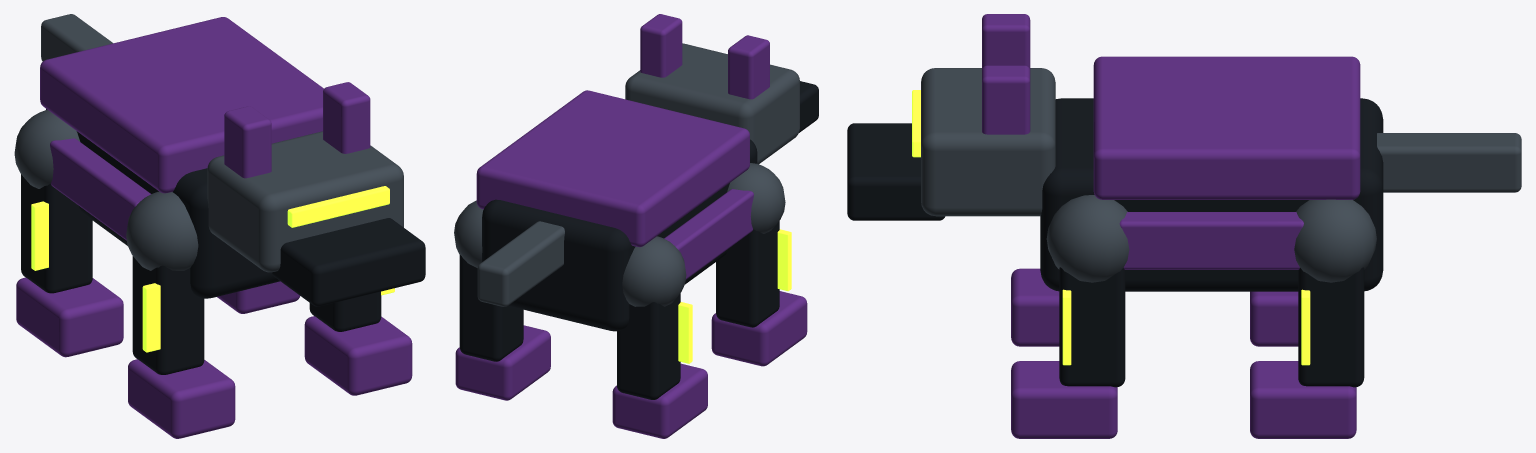
Rendered from hound_l02.glb.
3 views of the same model, side by side, from view 1: azimuth 30°, elevation 25°; view 2: azimuth 150°, elevation 25°; view 3: azimuth 270°, elevation 25° (orthographic). The views are drawn at different scales.
Parts seen in each view (by area): view 1: dorsal_plating, armoured_paw (×4), hound_head, servo_leg (×3), muzzle, hip_joint (×2), ear_array (×2), hound_core, flank_plate, servo_light (×2), tail, tracking_optics; view 2: dorsal_plating, servo_leg (×3), armoured_paw (×3), hound_core, hound_head, hip_joint (×3), tail, ear_array (×2), flank_plate, servo_light (×2), muzzle; view 3: dorsal_plating, armoured_paw (×4), hound_head, hound_core, servo_leg (×2), hip_joint (×2), flank_plate, tail, muzzle, ear_array (×2), servo_light (×2).
Boxes of the visible parts, x1=… form: dorsal_plating: x1=40, y1=17, x2=323, y2=193; armoured_paw (×4): x1=16, y1=277, x2=412, y2=438; hound_head: x1=207, y1=131, x2=403, y2=272; servo_leg (×3): x1=21, y1=174, x2=381, y2=374; muzzle: x1=271, y1=218, x2=425, y2=306; hip_joint (×2): x1=14, y1=110, x2=198, y2=270; ear_array (×2): x1=224, y1=82, x2=370, y2=178; hound_core: x1=46, y1=109, x2=279, y2=298; flank_plate: x1=50, y1=138, x2=150, y2=240; servo_light (×2): x1=31, y1=201, x2=160, y2=352; tail: x1=41, y1=14, x2=112, y2=61; tracking_optics: x1=287, y1=186, x2=389, y2=227; dorsal_plating: x1=476, y1=90, x2=749, y2=247; servo_leg (×3): x1=459, y1=221, x2=779, y2=399; armoured_paw (×3): x1=455, y1=291, x2=807, y2=438; hound_core: x1=482, y1=139, x2=757, y2=331; hound_head: x1=625, y1=43, x2=799, y2=164; hip_joint (×3): x1=454, y1=163, x2=785, y2=306; tail: x1=477, y1=221, x2=564, y2=306; ear_array (×2): x1=640, y1=14, x2=769, y2=99; flank_plate: x1=664, y1=189, x2=753, y2=279; servo_light (×2): x1=678, y1=229, x2=791, y2=363; muzzle: x1=799, y1=81, x2=818, y2=132; dorsal_plating: x1=1093, y1=56, x2=1360, y2=199; armoured_paw (×4): x1=1011, y1=268, x2=1356, y2=438; hound_head: x1=921, y1=68, x2=1055, y2=216; hound_core: x1=1040, y1=98, x2=1383, y2=291; servo_leg (×2): x1=1059, y1=267, x2=1364, y2=387; hip_joint (×2): x1=1046, y1=195, x2=1376, y2=282; flank_plate: x1=1119, y1=212, x2=1303, y2=269; tail: x1=1377, y1=133, x2=1521, y2=192; muzzle: x1=847, y1=123, x2=945, y2=220; ear_array (×2): x1=982, y1=14, x2=1030, y2=134; servo_light (×2): x1=1062, y1=289, x2=1310, y2=365.
Size of the model in its own units: 1.22 by 1.45 by 2.66.
